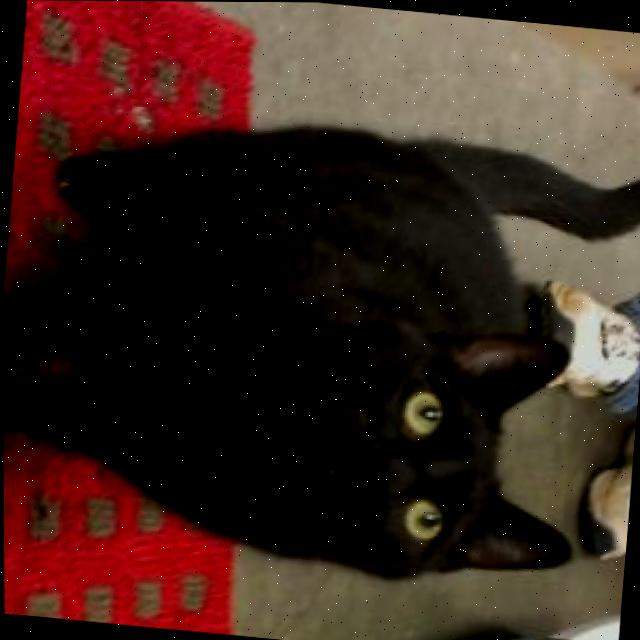Bombay: (1, 89, 640, 605)
